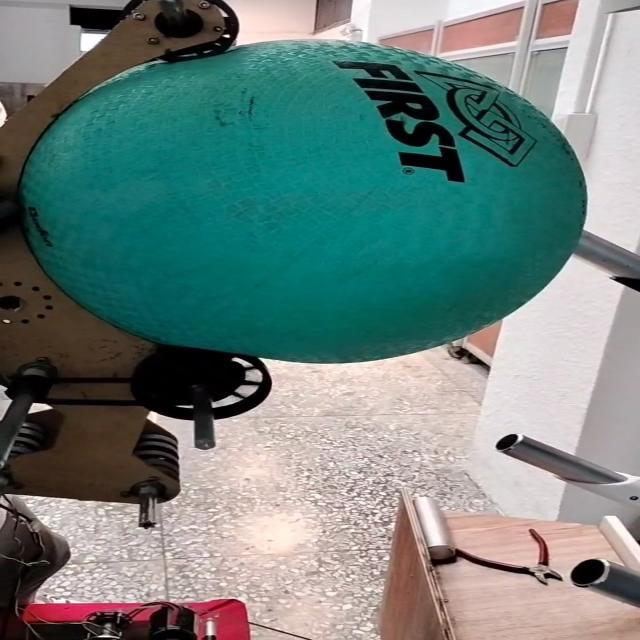ALGAE: (28, 38, 590, 360)
